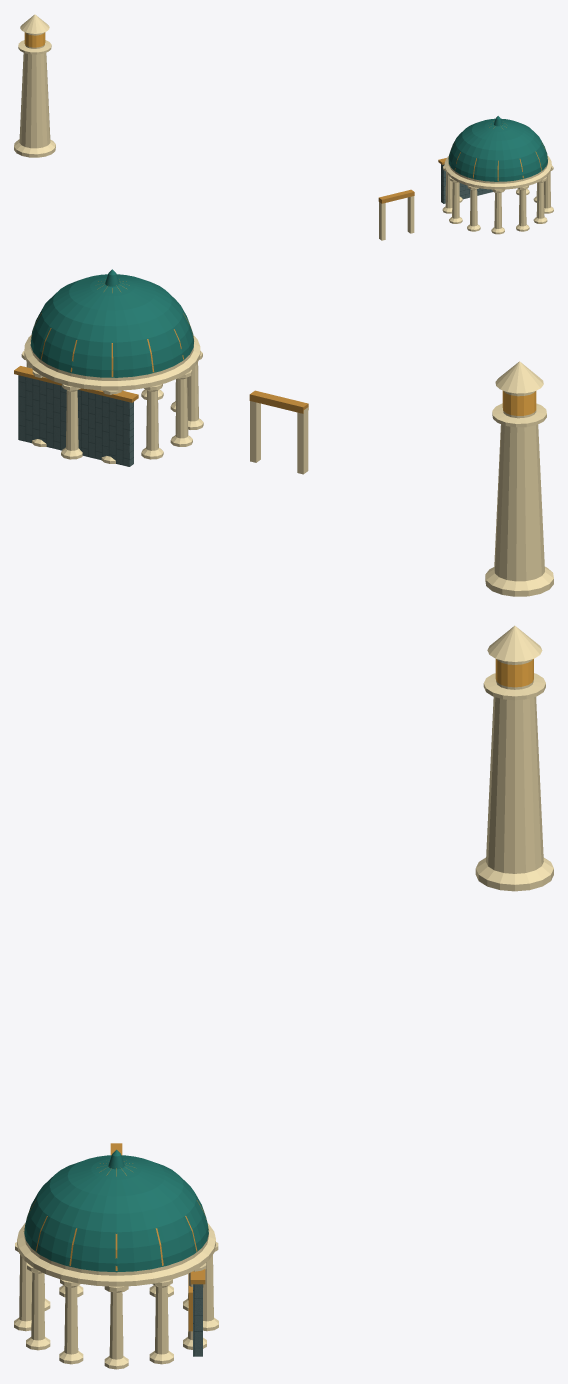
The model's file is district-rotunda.obj.
The picture shows the model from 3 angles, top to bottom: view 1: azimuth 30°, elevation 25°; view 2: azimuth 150°, elevation 25°; view 3: azimuth 270°, elevation 25°; orthographic projection. The views are drawn at different scales.
Size of the model in its own units: 49.86 by 23.1 by 29.83.
Materials: 5 (1 with a texture image).
